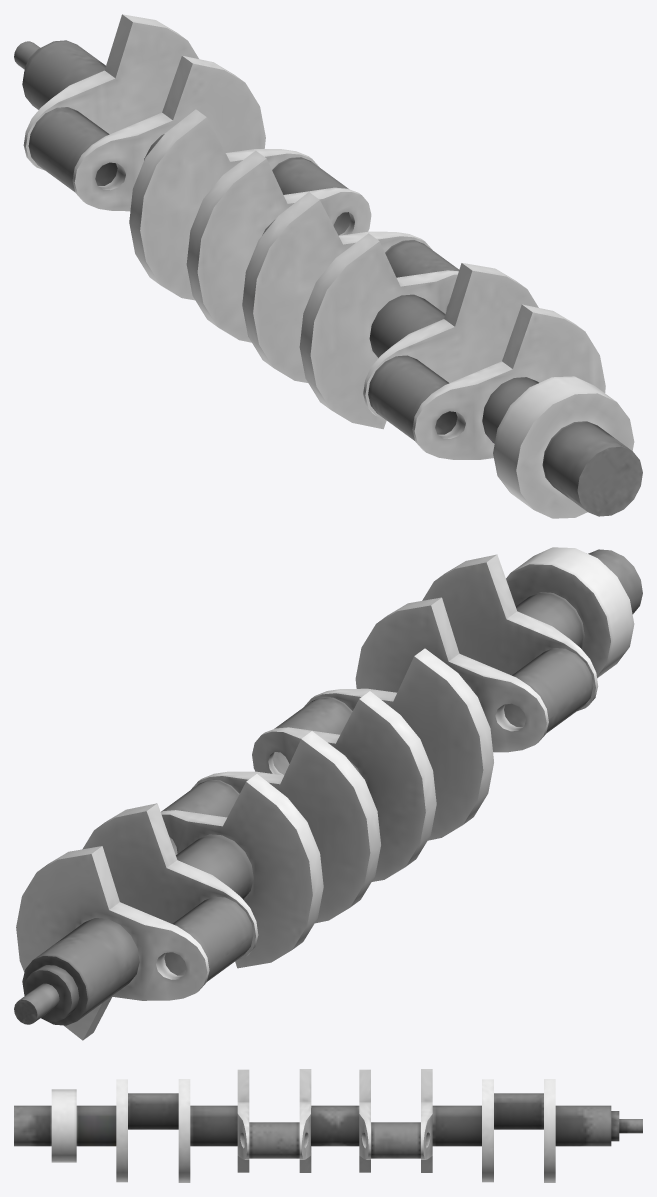
File: crankshaft.glb
3 views of the same model, one above another, from view 1: azimuth 30°, elevation 25°; view 2: azimuth 150°, elevation 25°; view 3: azimuth 270°, elevation 25° (orthographic). The views are drawn at different scales.
Visible parts, largest first — view 1: crankshaft_lambert2_0.001; view 2: crankshaft_lambert2_0.001; view 3: crankshaft_lambert2_0.001.
Part boxes in pixels (x1,y1,x2,y2): crankshaft_lambert2_0.001: [14, 14, 642, 518]; crankshaft_lambert2_0.001: [14, 547, 642, 1040]; crankshaft_lambert2_0.001: [14, 1069, 642, 1182].
Size of the model in its own units: 0.082 by 0.0818 by 0.4548.
1 material, 1 textured.
